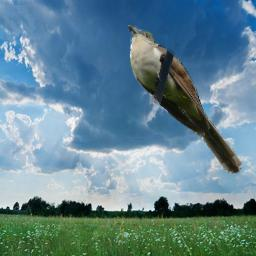Cuckoo: (128, 25, 242, 174)
